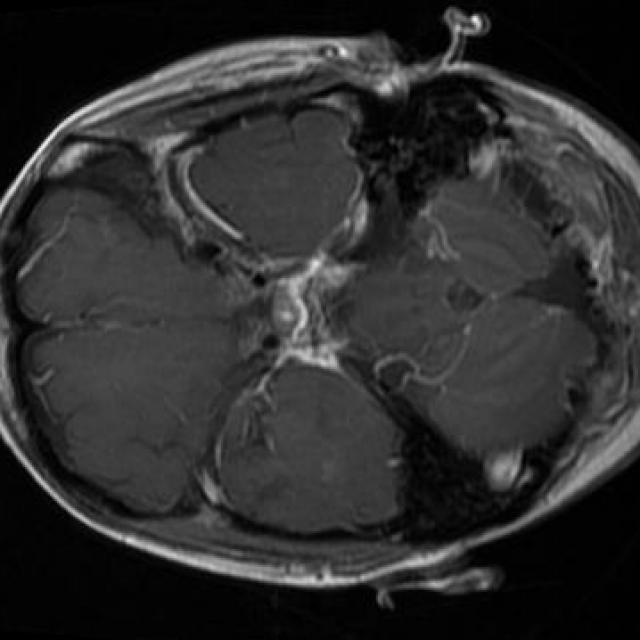glioma: (446, 273, 481, 312)
